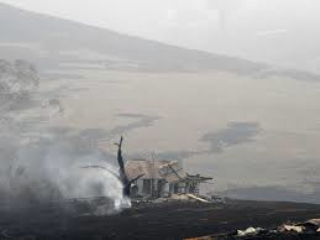smoke: (90, 159, 134, 215)
